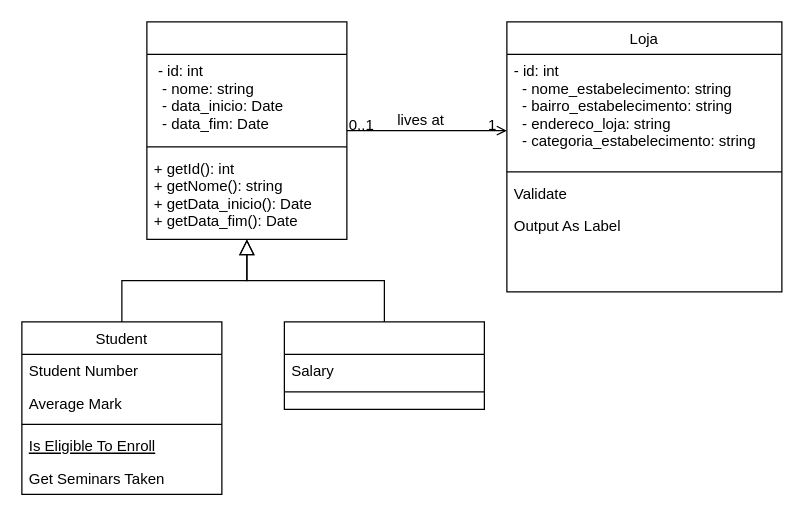
Some shapes in this 804 by 520 pixel diagram are drawn without their labels. The shapes that lost their labels are listed below. From the top down, each one's box as (x1, y1, x2, y2) in pixels, then its label:
(146, 21, 347, 239): Campanha
(283, 321, 484, 409): Professor
